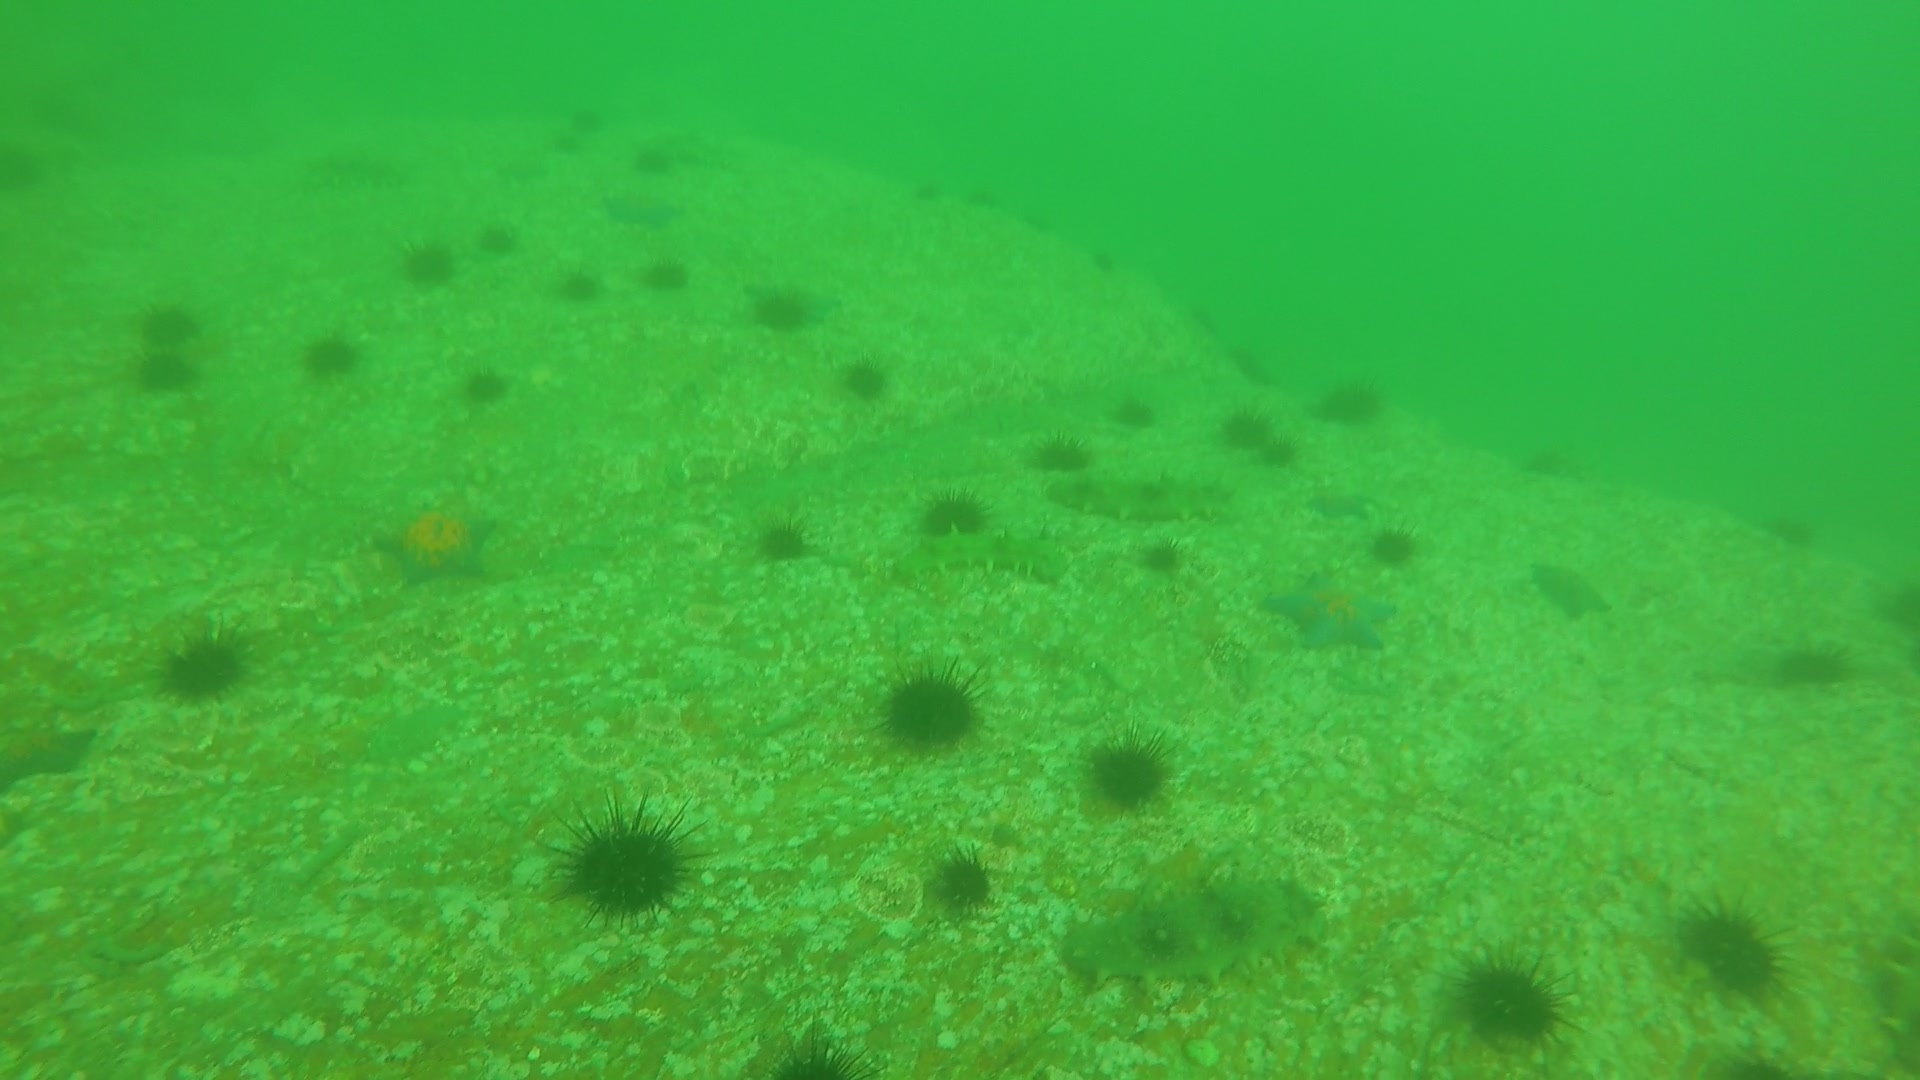echinus: (550, 787, 694, 923), (865, 651, 989, 756), (1664, 893, 1778, 1000), (1447, 952, 1557, 1047), (1077, 723, 1182, 818), (148, 618, 261, 702), (1676, 1034, 1793, 1080), (750, 273, 828, 338), (767, 1035, 874, 1080), (928, 843, 994, 911), (1785, 632, 1851, 690), (1315, 375, 1381, 431), (839, 357, 893, 413), (922, 493, 986, 539), (297, 334, 359, 381), (1766, 506, 1824, 556), (758, 510, 812, 562), (404, 247, 460, 295), (140, 345, 196, 394), (1030, 433, 1091, 477), (632, 256, 694, 299), (129, 303, 191, 345), (1228, 343, 1276, 392), (1218, 404, 1275, 444), (1371, 518, 1420, 566), (1527, 438, 1578, 483), (455, 363, 510, 404), (545, 256, 595, 299), (1145, 534, 1197, 570), (1114, 392, 1156, 433), (469, 222, 520, 255), (630, 140, 679, 173), (1251, 434, 1300, 465), (1191, 305, 1216, 335), (1025, 211, 1055, 236), (968, 189, 998, 211), (916, 185, 945, 204), (1096, 255, 1114, 273)
holothurian: (1058, 874, 1335, 988), (873, 534, 1068, 582), (1071, 477, 1238, 527), (301, 153, 419, 200)
starfish: (1247, 566, 1399, 651), (371, 487, 498, 585), (1, 690, 105, 795), (1524, 554, 1621, 629), (597, 193, 690, 237), (1303, 483, 1381, 522)
